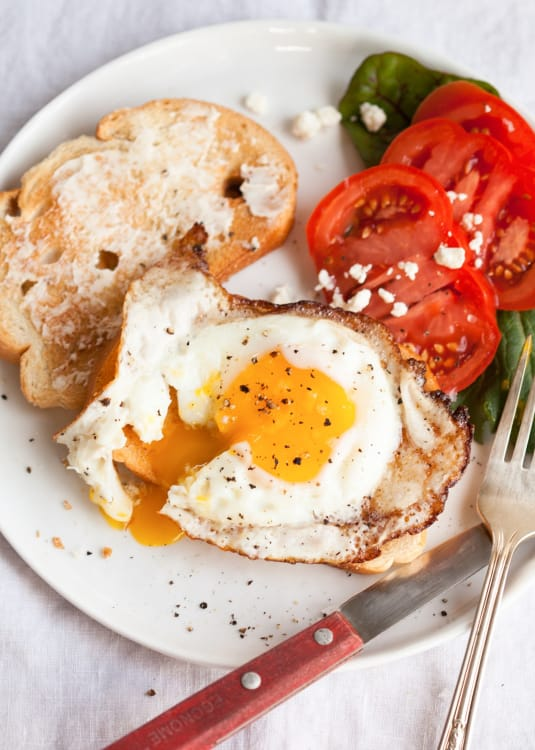fried egg: (121, 296, 396, 568)
slice of bread: (1, 97, 313, 414), (357, 359, 489, 594)
